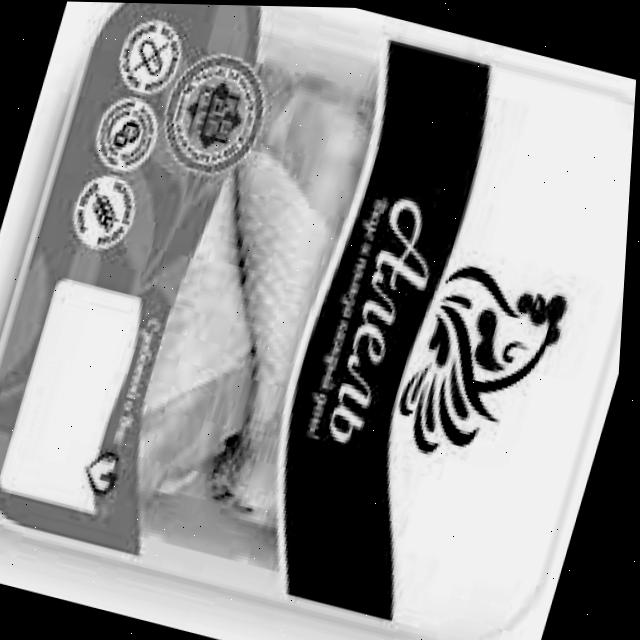alel: (237, 39, 638, 640)
